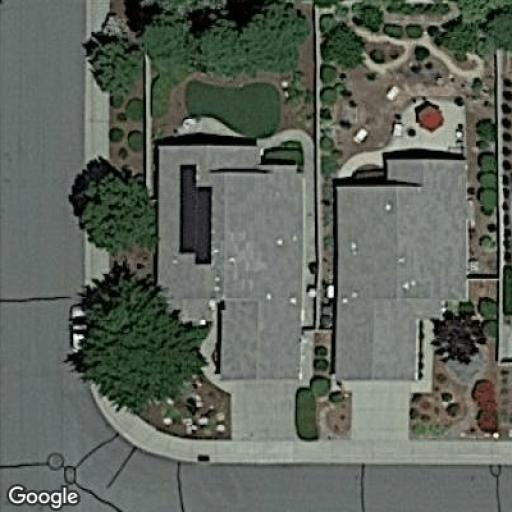solar-panel: (174, 162, 216, 268)
